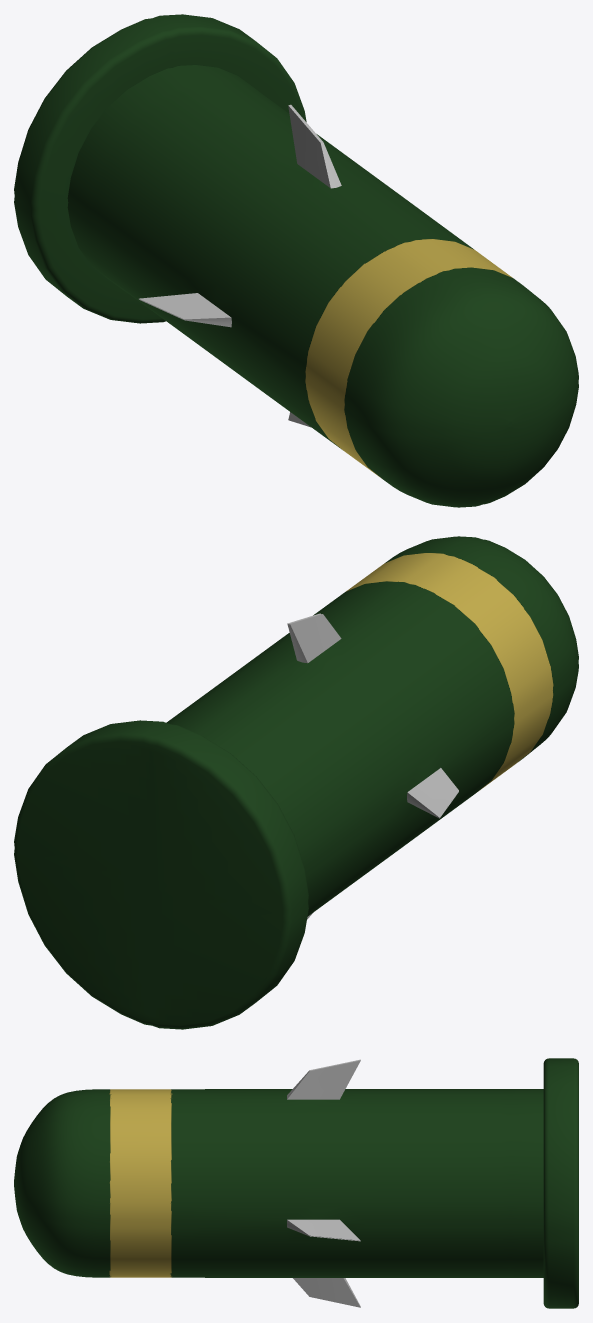
Rendered from Missle.fbx.
3 views of the same model, one above another, from view 1: azimuth 30°, elevation 25°; view 2: azimuth 150°, elevation 25°; view 3: azimuth 270°, elevation 25° (orthographic). The views are drawn at different scales.
Parts seen in each view (by area): view 1: Missle; view 2: Missle; view 3: Missle.
Part boxes in pixels (<box>): Missle: <box>14,14,578,507</box>; Missle: <box>14,536,578,1029</box>; Missle: <box>14,1058,578,1308</box>.
Size of the model in its own units: 0.5692 by 0.5695 by 1.18.
Materials: 1 (1 with a texture image).
